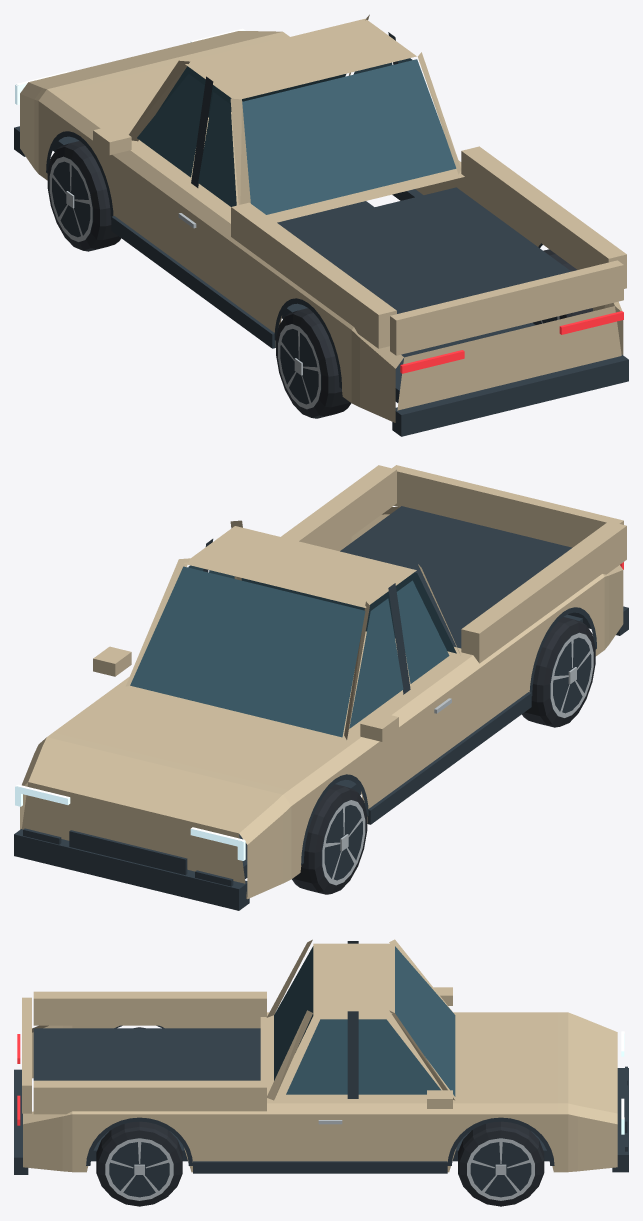
Rendered from forge_u.glb.
The picture shows the model from 3 angles, top to bottom: view 1: azimuth 30°, elevation 25°; view 2: azimuth 150°, elevation 25°; view 3: azimuth 270°, elevation 25°; orthographic projection. The views are drawn at different scales.
Parts seen in each view (by area): view 1: Body, Wheel_2, Wheel_0; view 2: Body, Wheel_0, Wheel_2; view 3: Body, Wheel_1, Wheel_3.
Part boxes in pixels (left/top/right/bottom): Body: left=14, top=14, right=628, bottom=436; Wheel_2: left=276, top=308, right=351, bottom=418; Wheel_0: left=47, top=141, right=121, bottom=251; Body: left=14, top=465, right=628, bottom=910; Wheel_0: left=292, top=784, right=367, bottom=894; Wheel_2: left=522, top=617, right=595, bottom=727; Body: left=14, top=939, right=628, bottom=1174; Wheel_1: left=458, top=1121, right=544, bottom=1206; Wheel_3: left=96, top=1121, right=182, bottom=1206.
Size of the model in its own units: 2.23 by 1.68 by 5.19.
